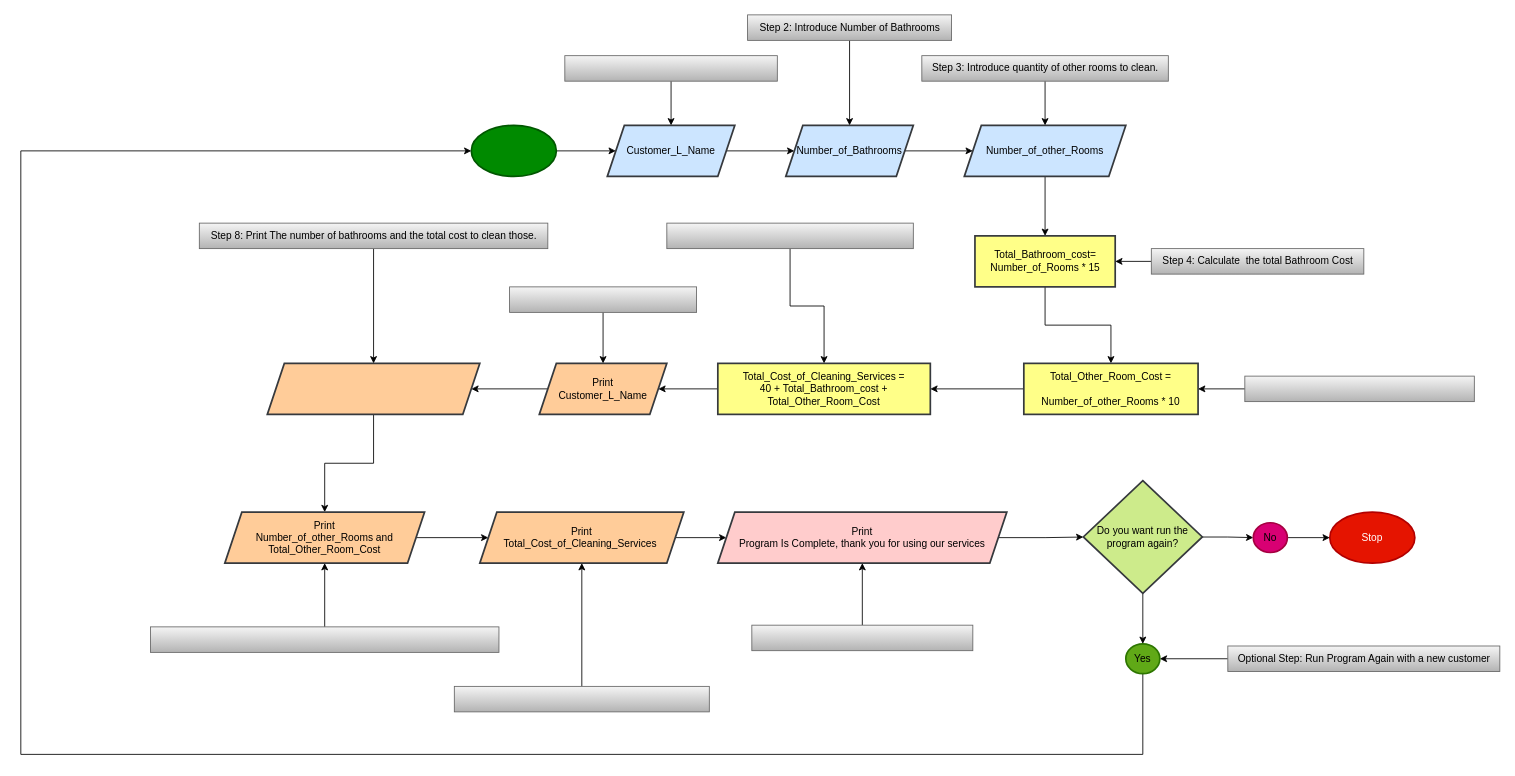
Some shapes in this 1515 by 776 pixel diagram are drawn without their labels. The box of each missing label's shape, as (x1, y1, x2, y2) in pixels:
Print Number_of_Bathrooms and Total_Bathroom_Cost: (266, 362, 480, 415)
Start: (470, 124, 557, 177)
Step 1" Introduce the customer Last Name.: (564, 55, 777, 81)
Step 10: Print The final cost of the cleaning services: (453, 686, 709, 712)
Step 11: Show end of the program message.: (751, 624, 973, 651)
Step 5: Calculate the total for other rooms cost: (1244, 375, 1474, 402)
Step 6: Calculate the total cost of cleaning services: (666, 222, 913, 249)
Step 7: Print Customer's Last Name: (509, 286, 697, 312)
Step 9: Print the number of other rooms and the total cost to clean those.: (150, 626, 499, 652)
